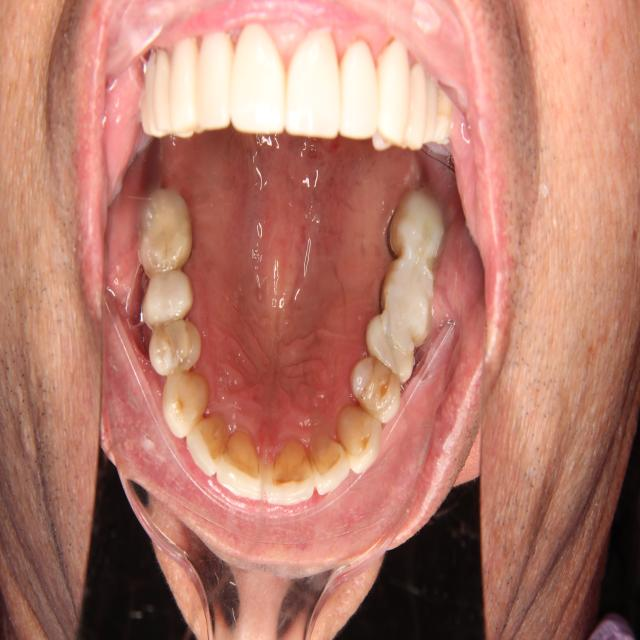tooth: (128, 172, 197, 281), (371, 252, 439, 349), (380, 184, 451, 269), (210, 419, 267, 510), (156, 363, 216, 445), (331, 396, 387, 479), (347, 348, 406, 426), (362, 306, 419, 383), (136, 266, 198, 334), (263, 437, 317, 510), (145, 317, 206, 379), (182, 410, 233, 484), (306, 423, 352, 504)
